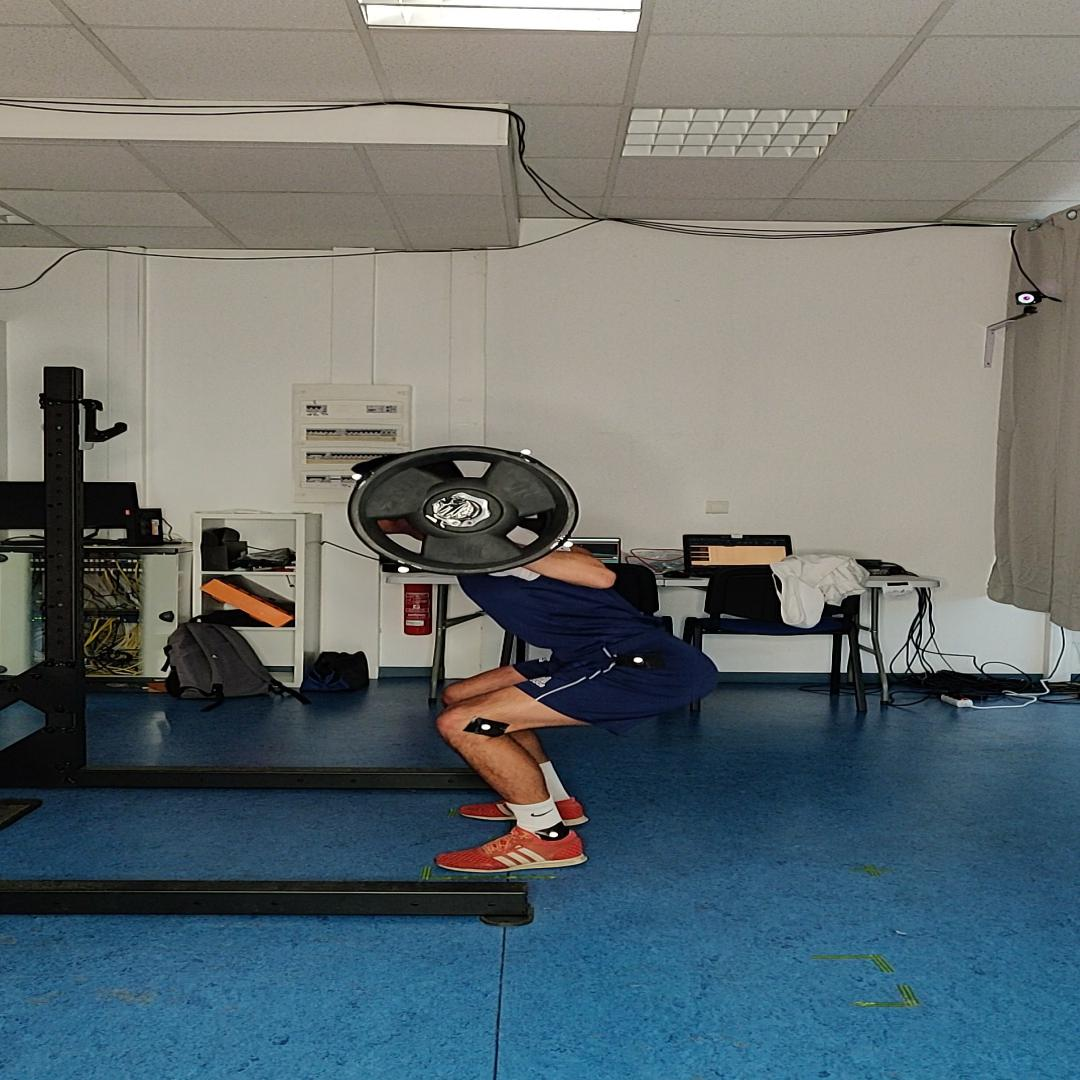Bar: (433, 496, 474, 520)
Barbell: (346, 445, 580, 575)
